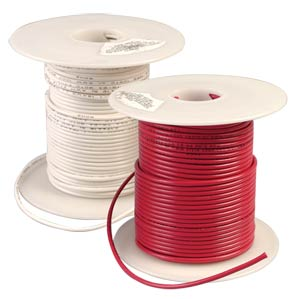Nonrec_Tangler: (6, 1, 171, 234), (115, 73, 287, 281)
